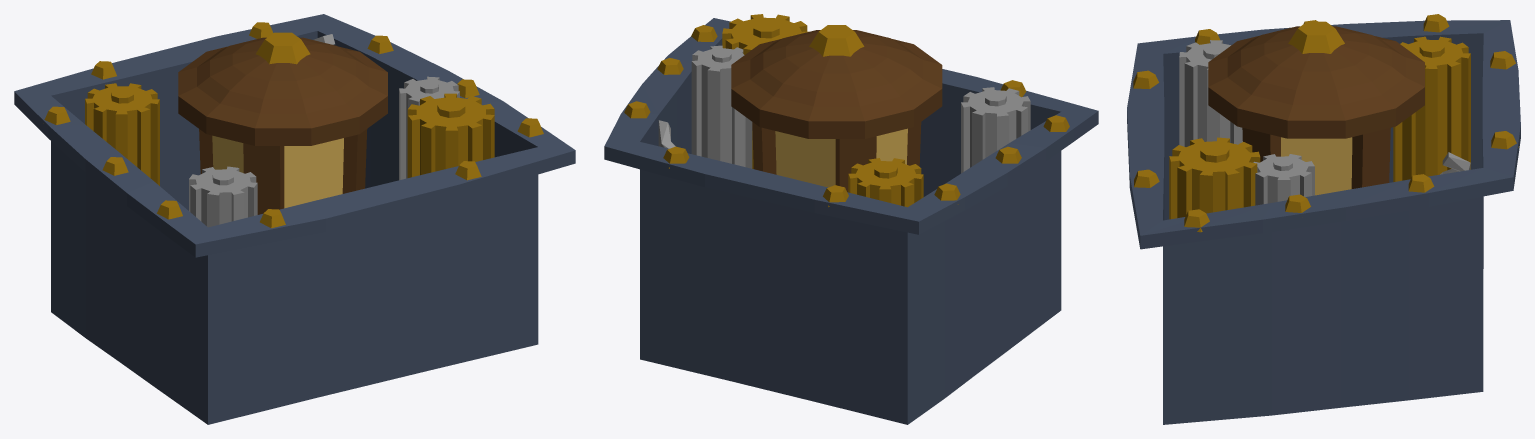
The model's file is hand-lantern-cdbe1a.glb.
The picture shows the model from 3 angles, left to right: view 1: azimuth 30°, elevation 25°; view 2: azimuth 150°, elevation 25°; view 3: azimuth 270°, elevation 25°; orthographic projection. The views are drawn at different scales.
Size of the model in its own units: 0.0466 by 0.0341 by 0.0393.
